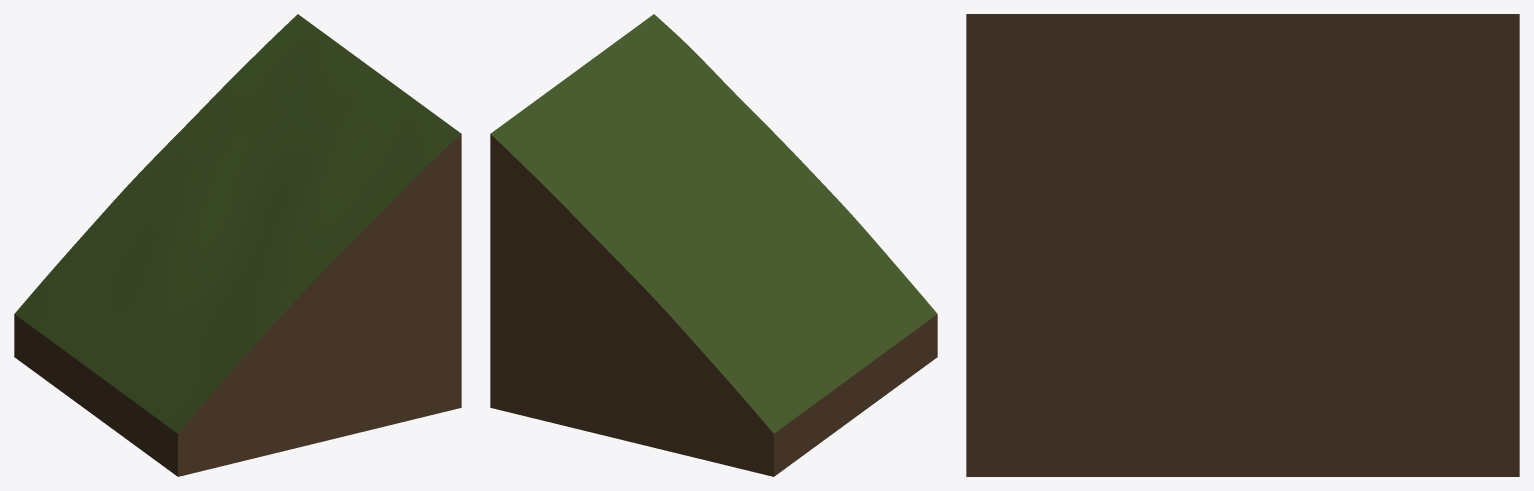
3 renders of one model, left to right at view 1: azimuth 30°, elevation 25°; view 2: azimuth 150°, elevation 25°; view 3: azimuth 270°, elevation 25°, orthographic. The views are drawn at different scales.
Parts seen in each view (by area): view 1: e34go; view 2: e34go; view 3: e34go.
Boxes of the visible parts, left/top/right/bottom form: e34go: left=14, top=14, right=461, bottom=476; e34go: left=490, top=14, right=937, bottom=476; e34go: left=966, top=14, right=1519, bottom=476.
Size of the model in its own units: 9 by 8.31 by 9.
